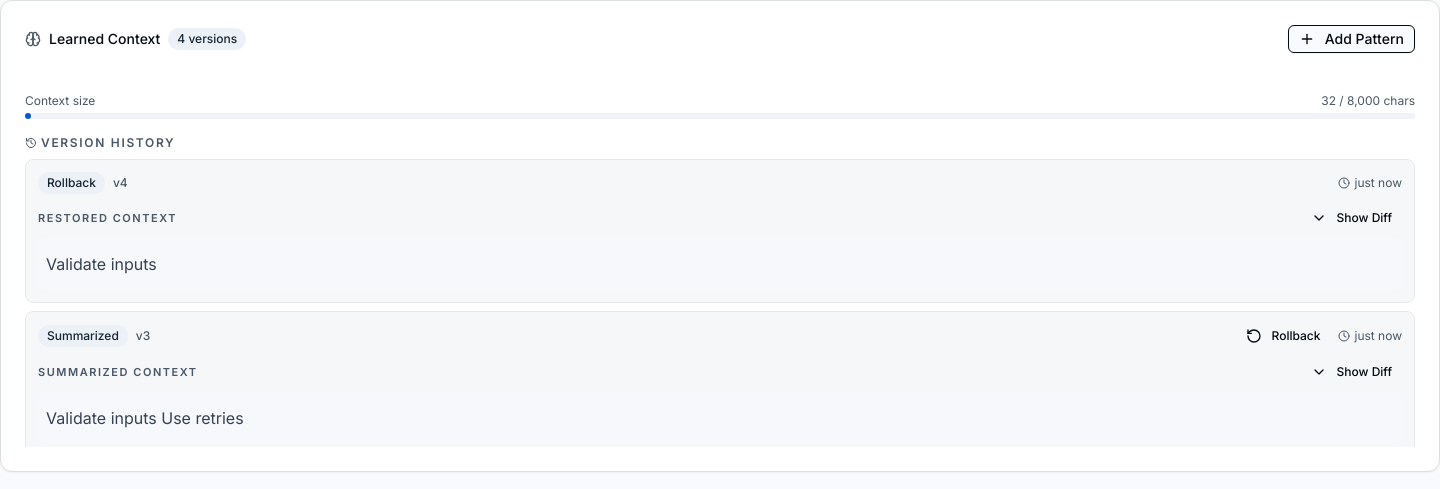
it: LearnedContextPanel › renders badges, rollback content preview, and a unified diff toggle
This screenshot has width=1440, height=489.
Expected: the text "Rollback" is shown, [38, 172, 105, 194]
Expected: the text "Summarized" is shown, [38, 325, 128, 347]
Click the button "Show Diff" in the row of "Restored Context". click: (1351, 218)
box: [1300, 206, 1402, 230]
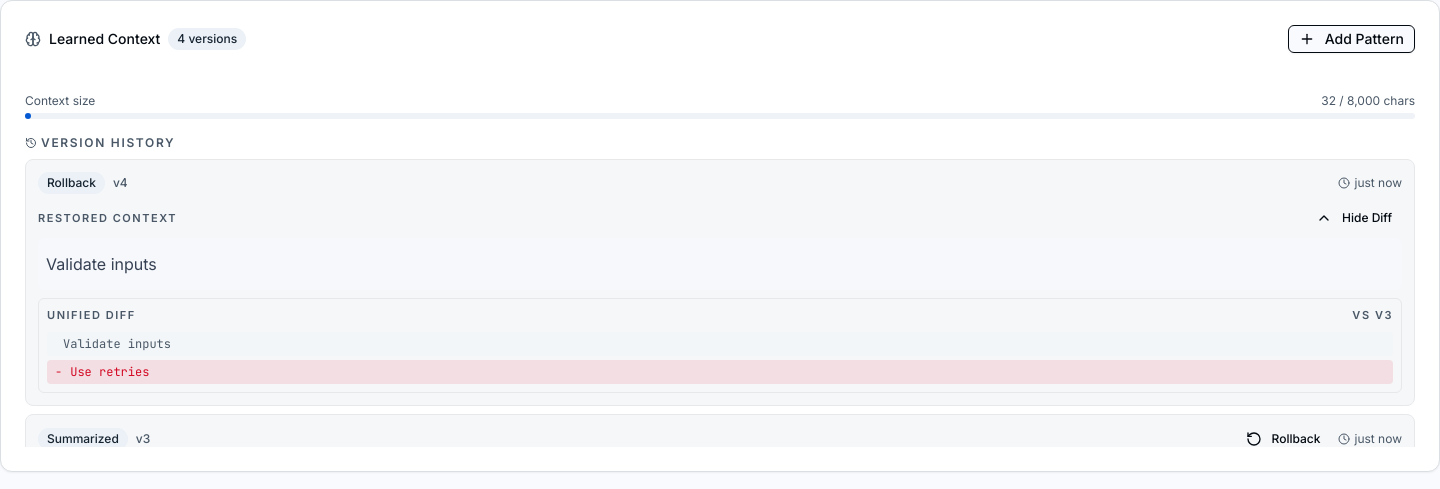
Expected: the text "Unified Diff" is shown, [47, 307, 136, 324]
Expected: the text "vs v3" is shown, [1352, 307, 1393, 324]
Expected: the button "Hide Diff" is shown, [1306, 206, 1402, 230]
